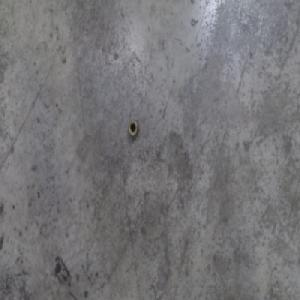Nut: (127, 118, 138, 138)
